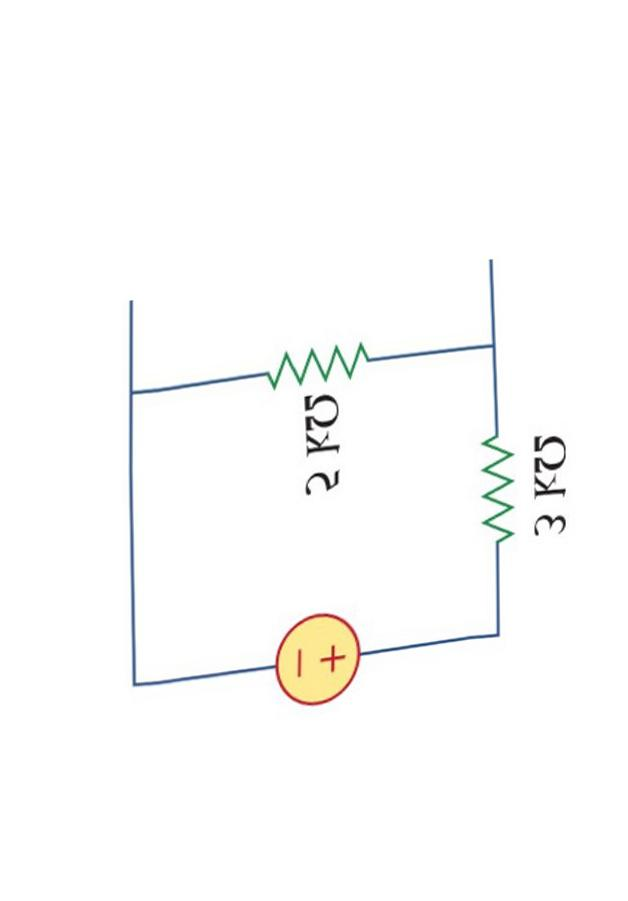Battery: (240, 580, 379, 736)
